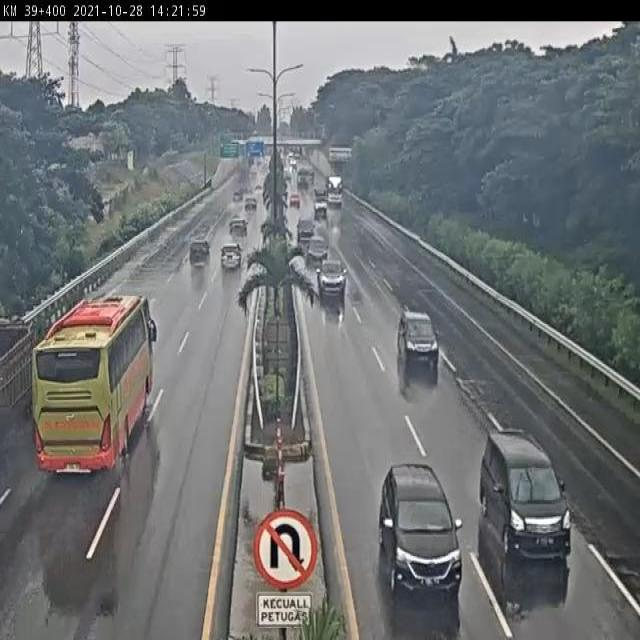big bus: (31, 293, 156, 471)
car: (478, 421, 572, 564), (376, 461, 465, 596), (397, 309, 441, 367), (316, 256, 347, 295), (217, 242, 244, 278), (187, 237, 212, 268), (305, 231, 328, 264), (294, 214, 317, 242), (227, 215, 248, 240)
